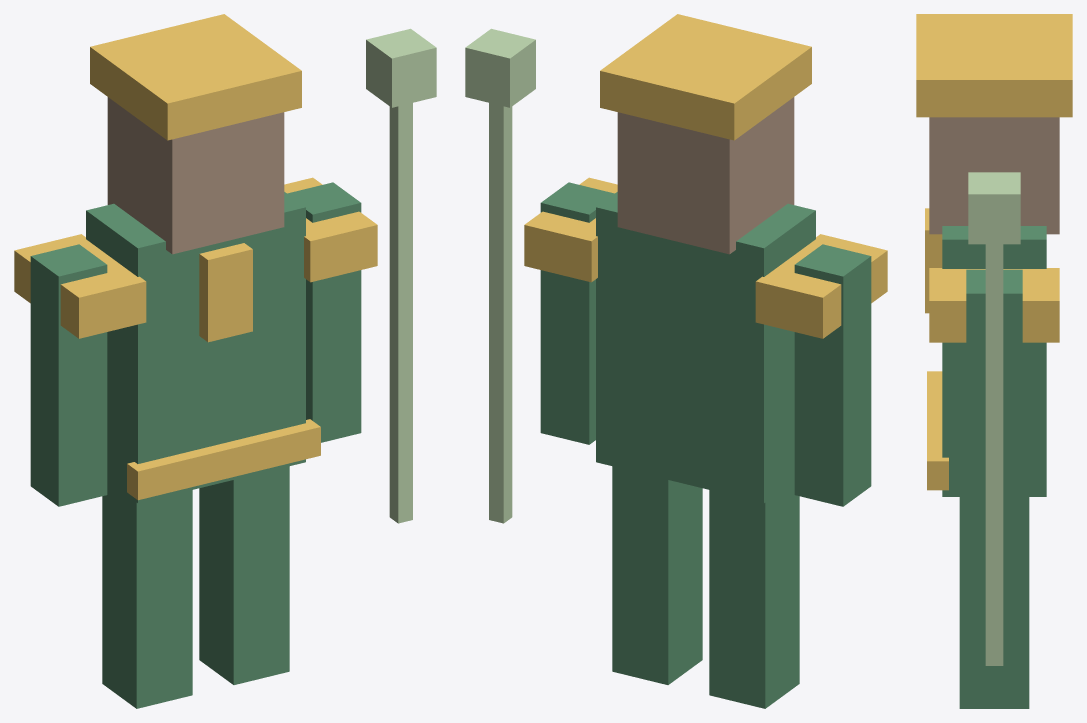
Rendered from 07_maelis_spirebound_specialist_of.glb.
The picture shows the model from 3 angles, left to right: view 1: azimuth 30°, elevation 25°; view 2: azimuth 150°, elevation 25°; view 3: azimuth 270°, elevation 25°; orthographic projection.
Visible parts, largest first — view 1: Maelis Spirebound, Specialist of; view 2: Maelis Spirebound, Specialist of; view 3: Maelis Spirebound, Specialist of.
Part boxes in pixels (left/top/right/bottom): Maelis Spirebound, Specialist of: left=14, top=14, right=436, bottom=708; Maelis Spirebound, Specialist of: left=465, top=14, right=887, bottom=708; Maelis Spirebound, Specialist of: left=916, top=14, right=1072, bottom=708.
Bounding box in the file's own units: 1.04 × 1.62 × 0.3678.
